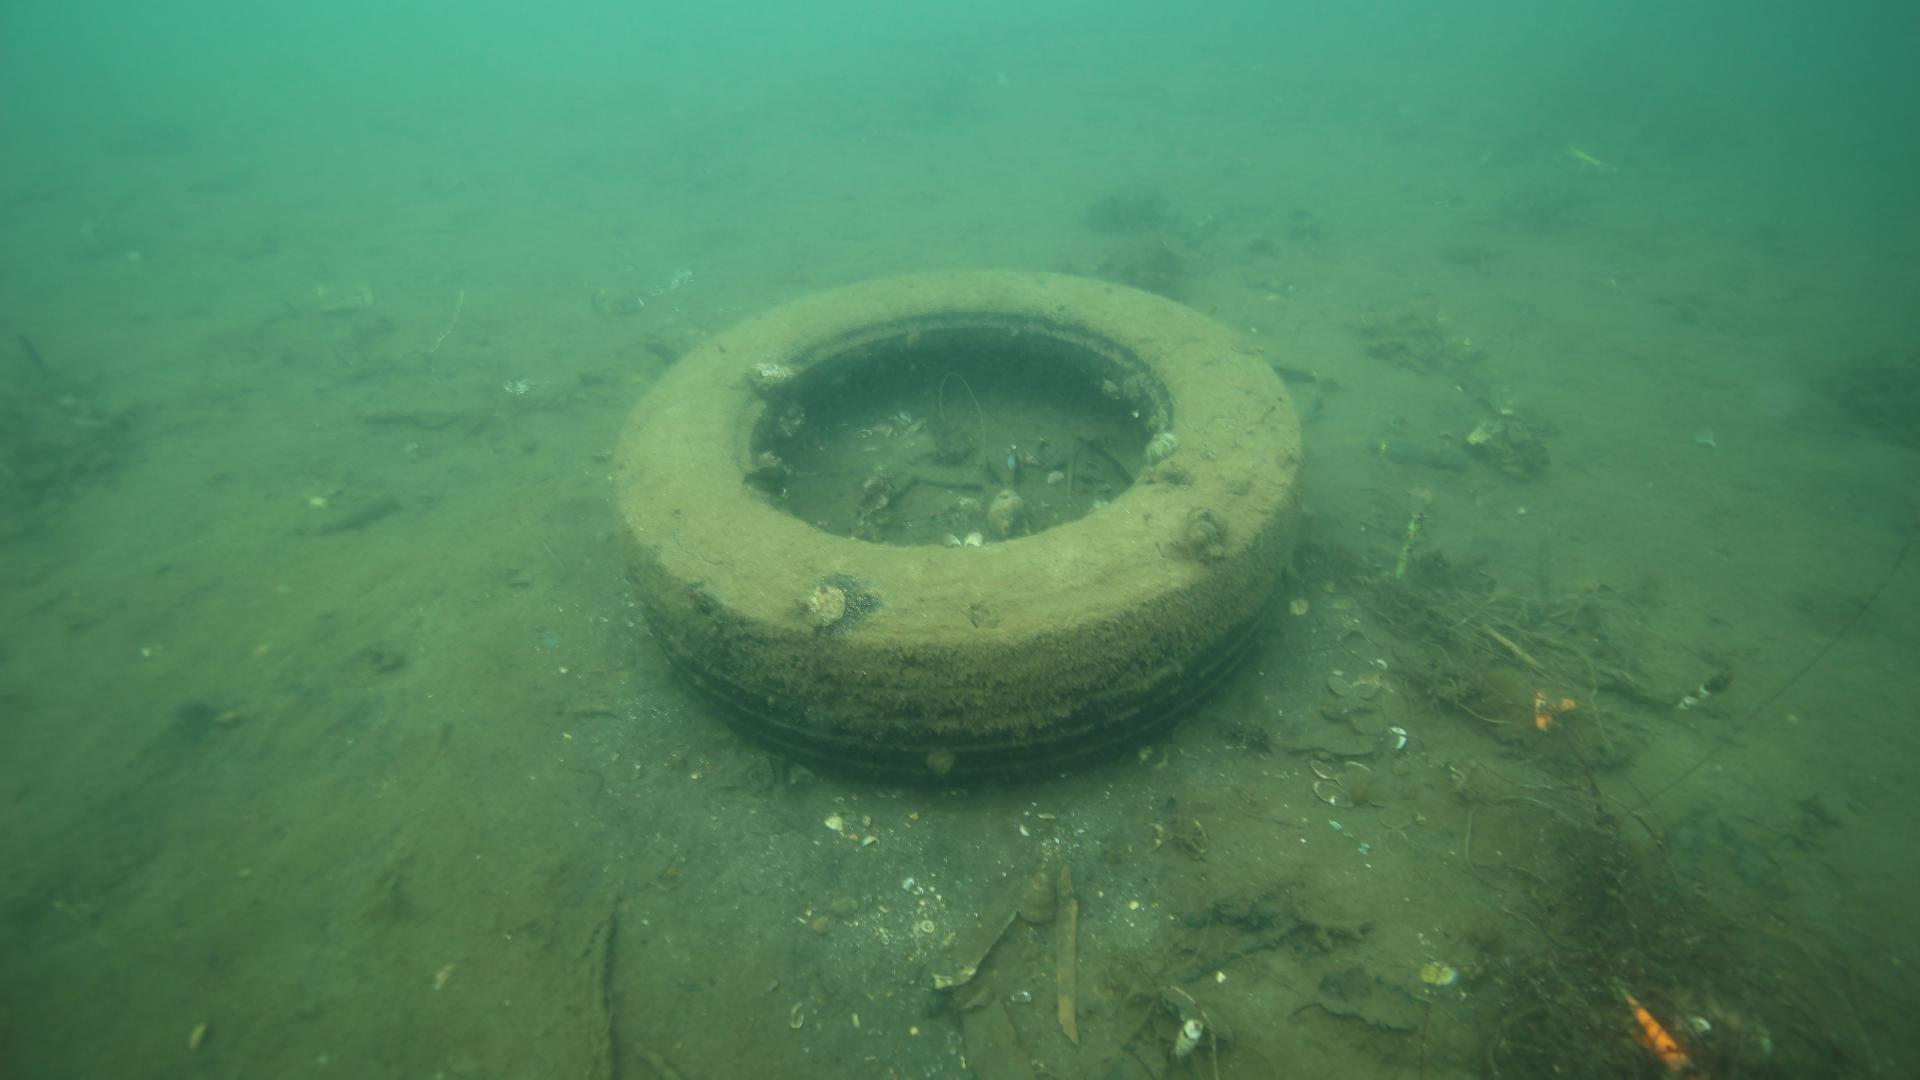tire: (608, 265, 1307, 785)
